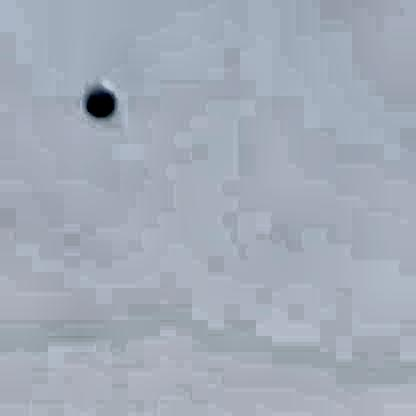golfball: (82, 75, 115, 114)
